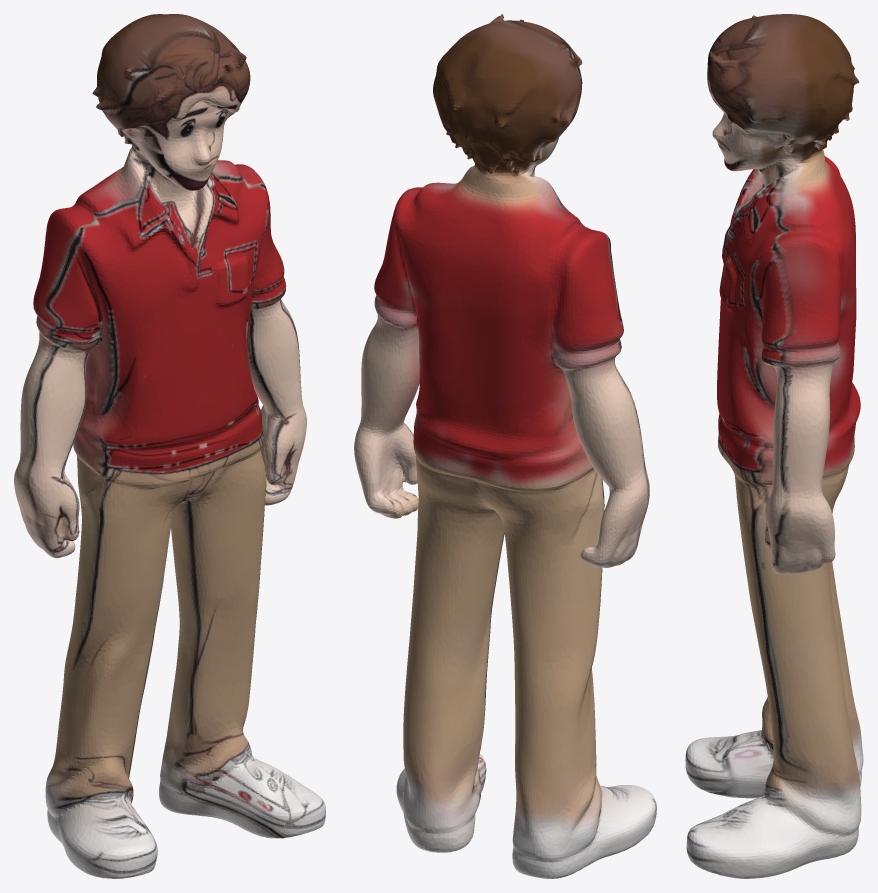
File: intern_pip_local.glb
3 views of the same model, side by side, from view 1: azimuth 30°, elevation 25°; view 2: azimuth 150°, elevation 25°; view 3: azimuth 270°, elevation 25° (orthographic).
Visible parts, largest first — view 1: geometry_0; view 2: geometry_0; view 3: geometry_0.
Part boxes in pixels (left/top/right/bottom): geometry_0: left=14, top=14, right=325, bottom=878; geometry_0: left=354, top=14, right=656, bottom=878; geometry_0: left=685, top=14, right=863, bottom=878.
Bounding box in the file's own units: 0.6289 × 1.72 × 0.3451.
1 material, 1 textured.
